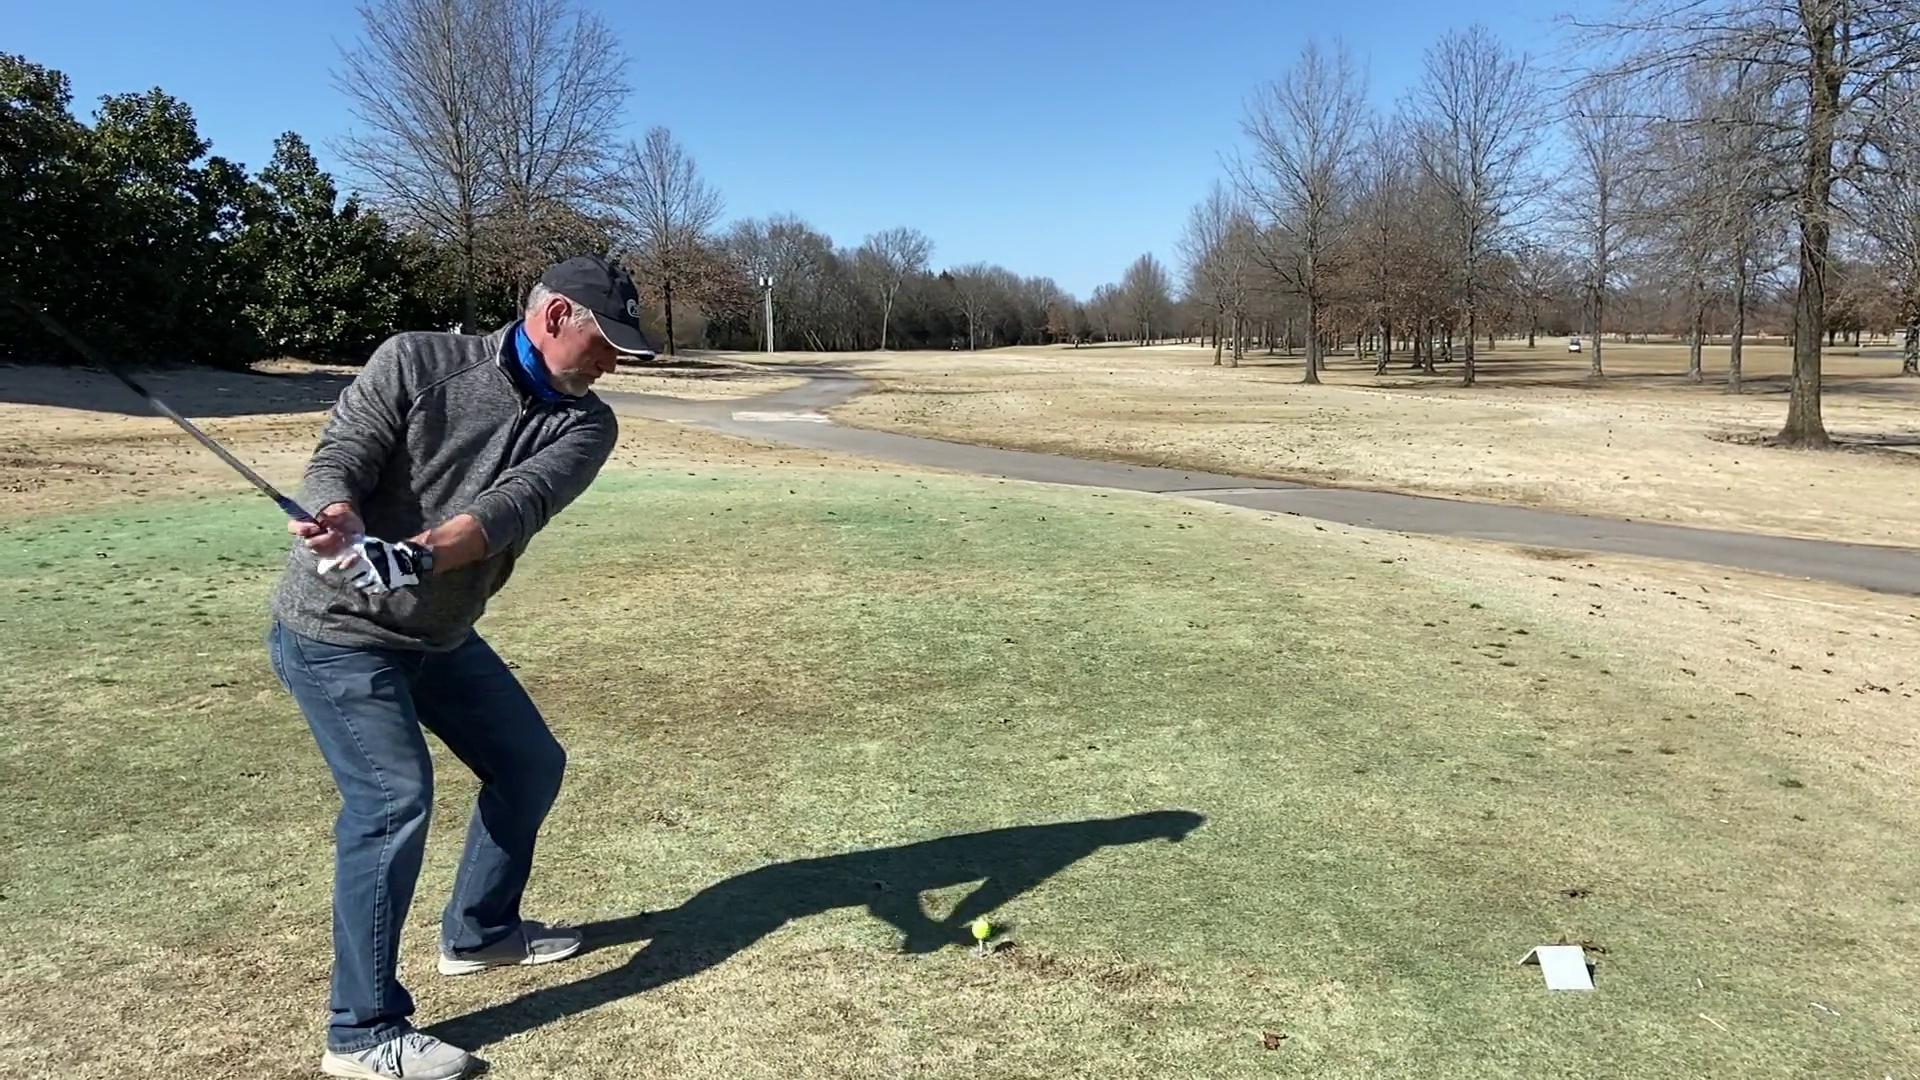GolfBall: (969, 916, 992, 942)
